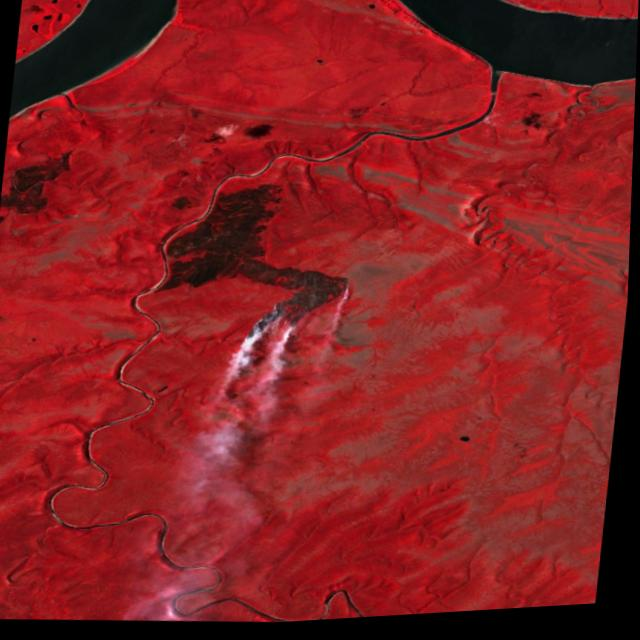fire: (245, 268, 359, 355)
